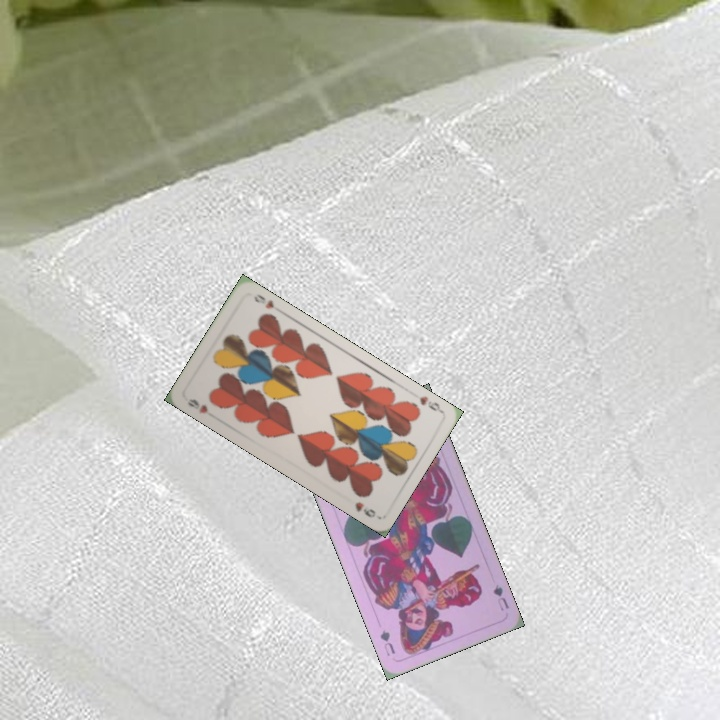GU: (489, 580, 512, 613)
H9: (415, 392, 444, 415), (184, 394, 210, 416)
